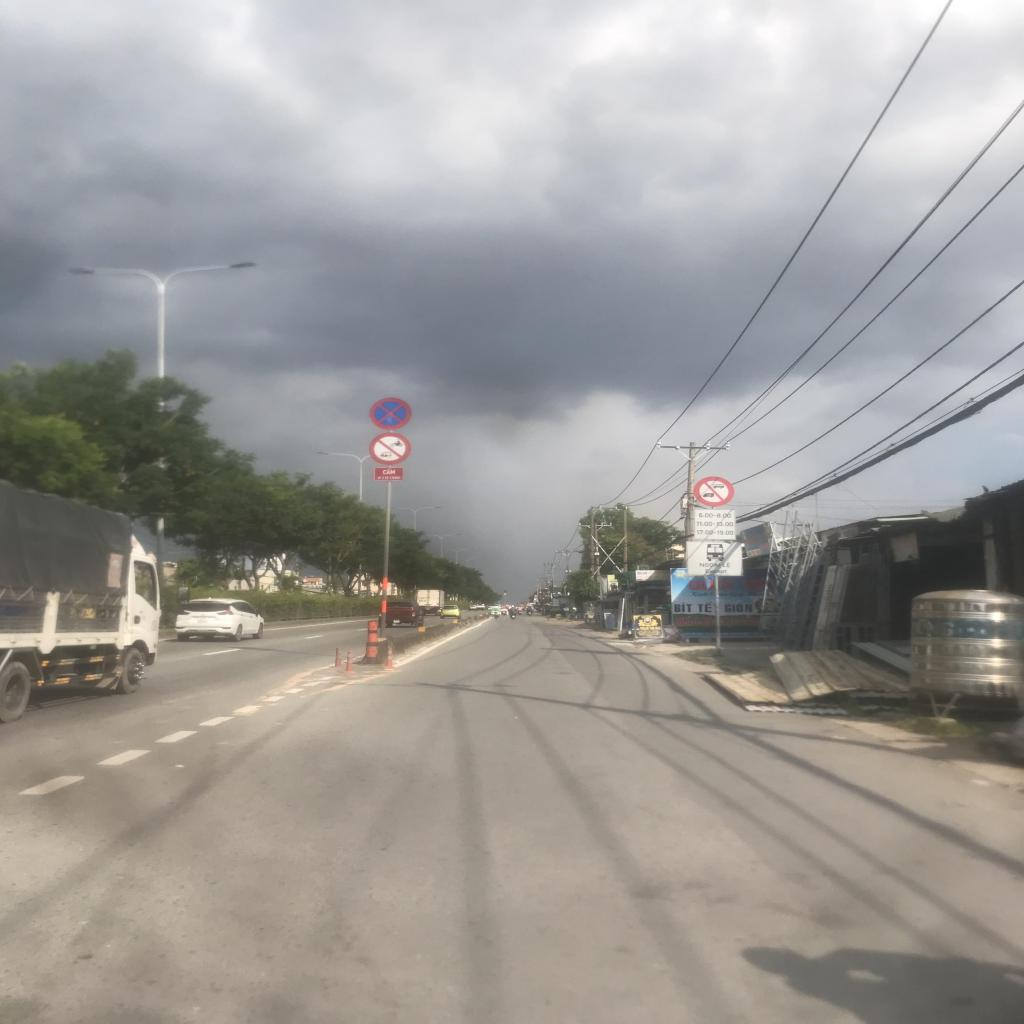cam_dung_xe_va_do_xe: (370, 397, 413, 430)
cam_o_to_tai_va_xe_khach: (694, 476, 734, 506)
cam_xe_2_banh_va_xe_3_banh_co_dong_co: (368, 433, 411, 464)
khac: (686, 542, 743, 576), (694, 509, 735, 540)
